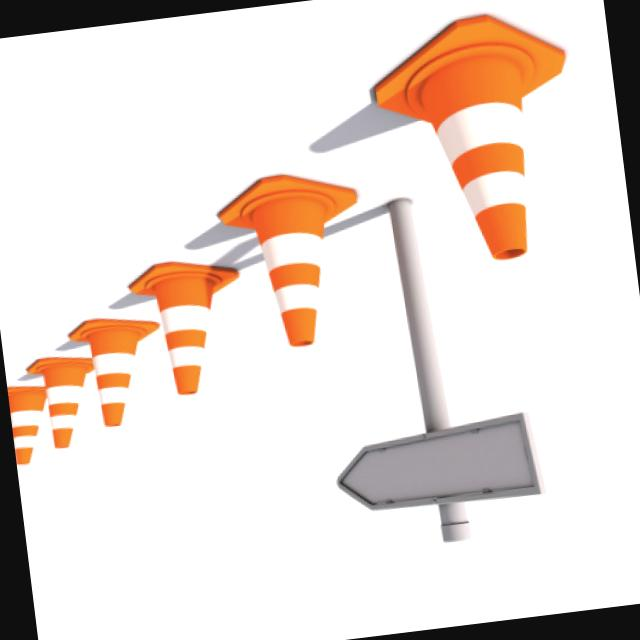cone: (348, 0, 605, 293), (211, 156, 387, 391), (134, 245, 256, 435), (72, 307, 172, 454)
